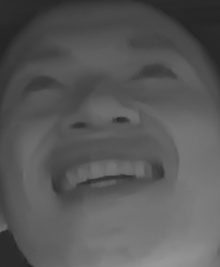eye: (129, 55, 179, 91), (23, 64, 66, 98)
mouth: (46, 141, 167, 210)
